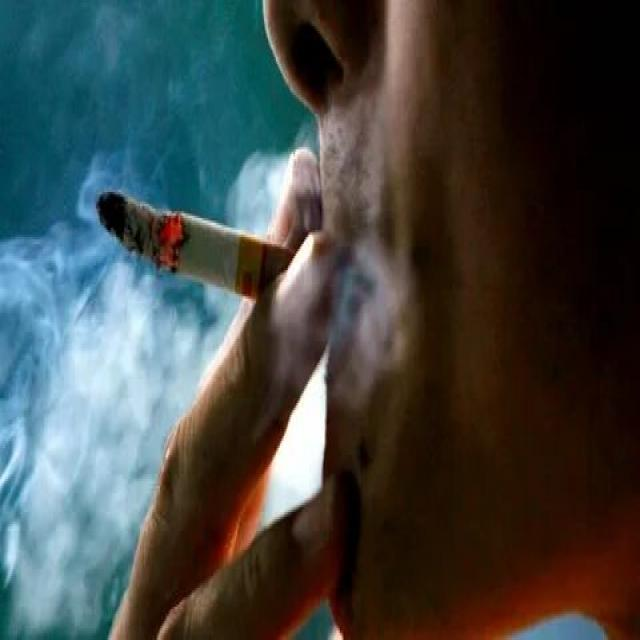smoke: (96, 183, 319, 320)
